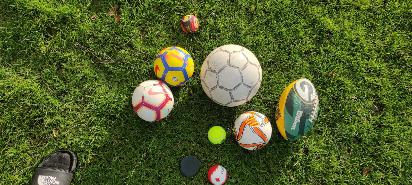Football mini: (150, 42, 192, 88), (132, 80, 176, 123), (232, 111, 274, 150)
Football size 5: (199, 42, 261, 107)
Honkball: (178, 13, 200, 33), (206, 163, 226, 183)
Rugby: (274, 73, 320, 142)
hockey puck: (180, 153, 202, 176)
tennis: (206, 125, 226, 146)
